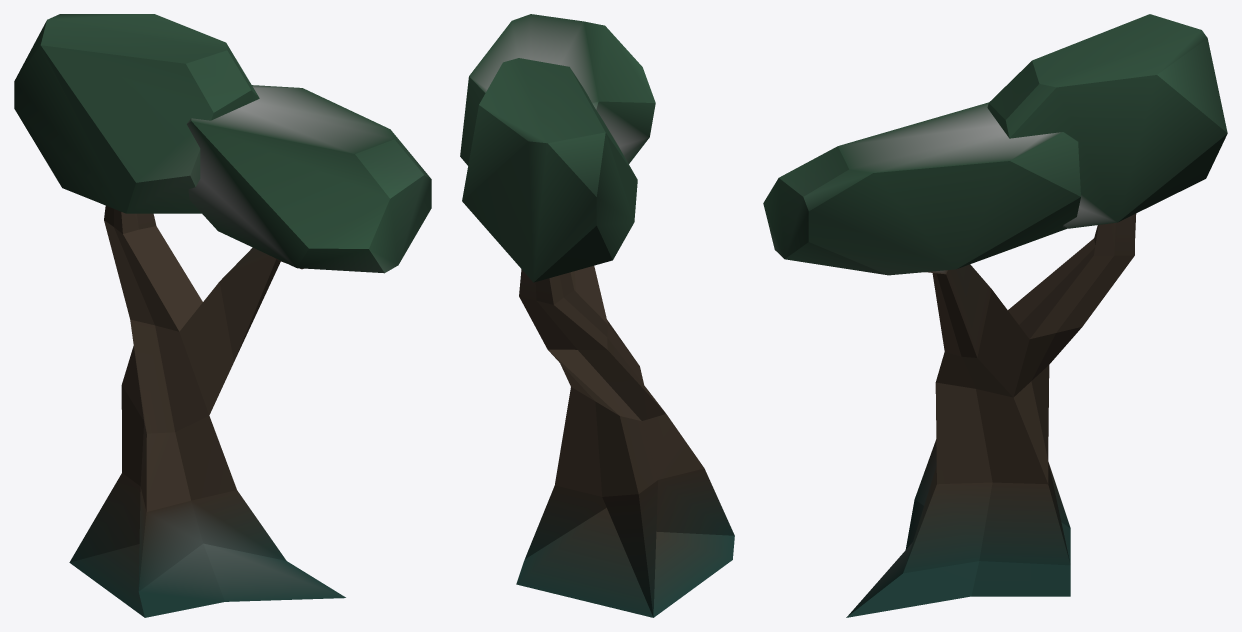
The model's file is tree_1.fbx.
The picture shows the model from 3 angles, left to right: view 1: azimuth 30°, elevation 25°; view 2: azimuth 150°, elevation 25°; view 3: azimuth 270°, elevation 25°; orthographic projection. The views are drawn at different scales.
Visible parts, largest first — view 1: Cube.460; view 2: Cube.460; view 3: Cube.460.
Boxes of the visible parts, box(x1,y1,x2,y2) form: Cube.460: box(14, 14, 431, 617); Cube.460: box(460, 14, 734, 617); Cube.460: box(763, 14, 1227, 617).
Bounding box in the file's own units: 488 × 935 × 758.
